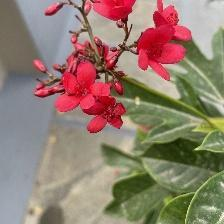jatropha: (59, 60, 110, 116)
